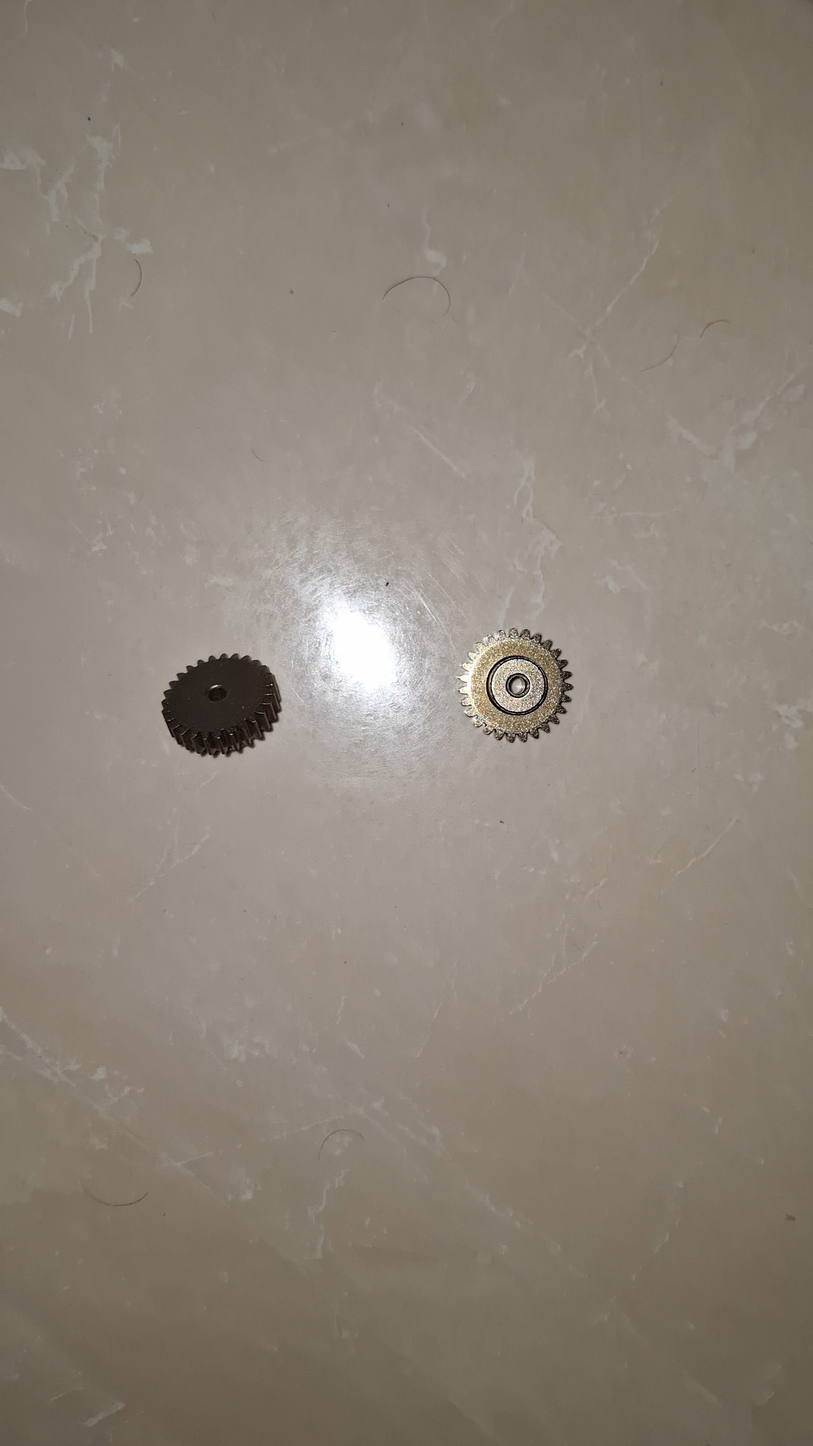spur gear: (460, 628, 571, 741), (162, 654, 280, 755)
